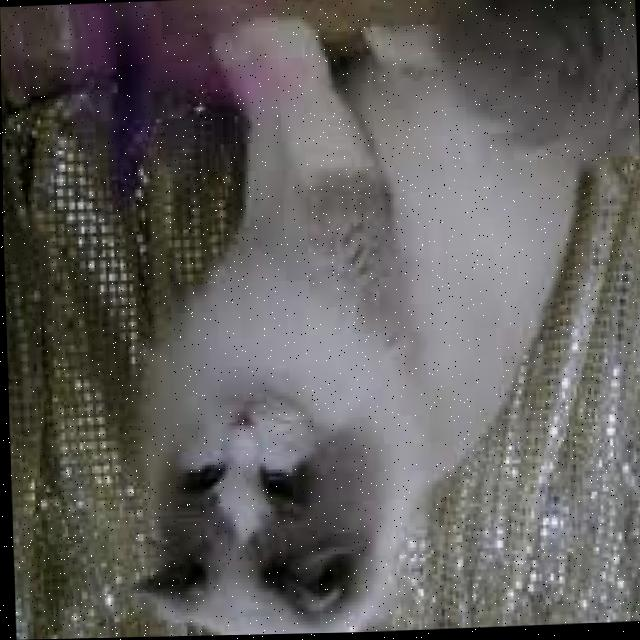Ragdoll: (110, 0, 640, 638)
